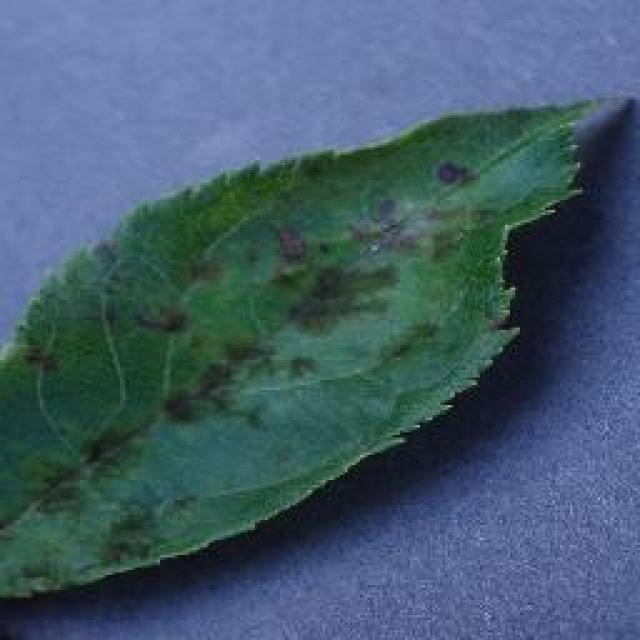App_scab: (264, 202, 442, 338), (125, 300, 289, 432), (30, 435, 181, 575), (431, 148, 490, 198)
